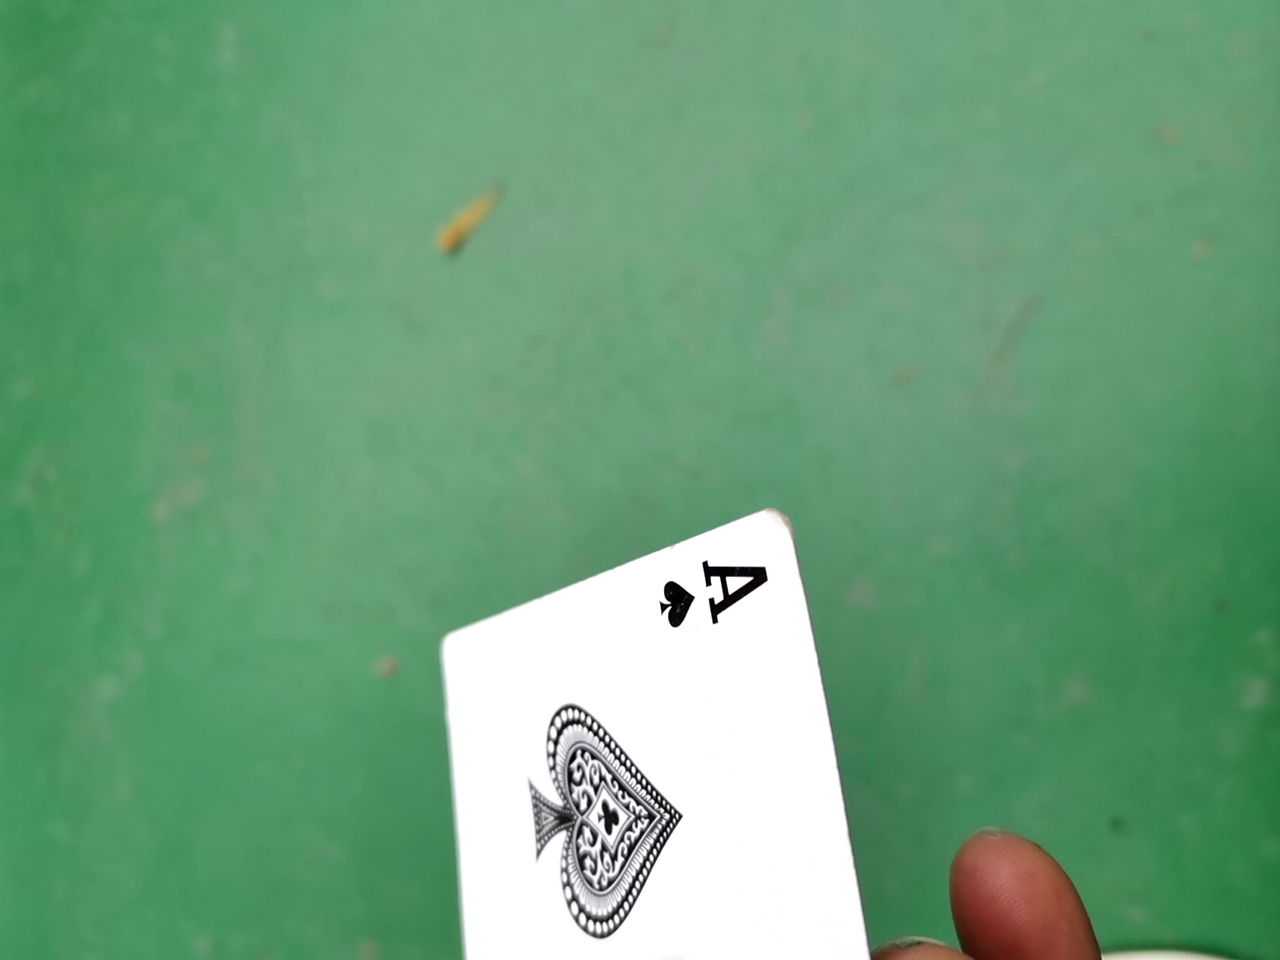ht a: (383, 482, 939, 944)
